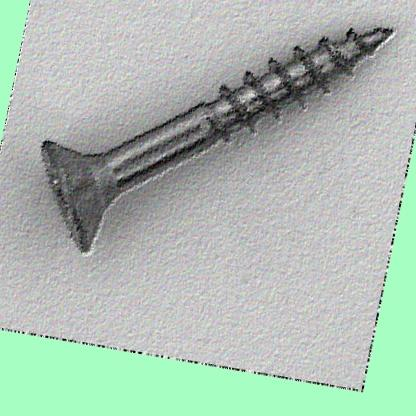metal: (39, 26, 396, 253)
